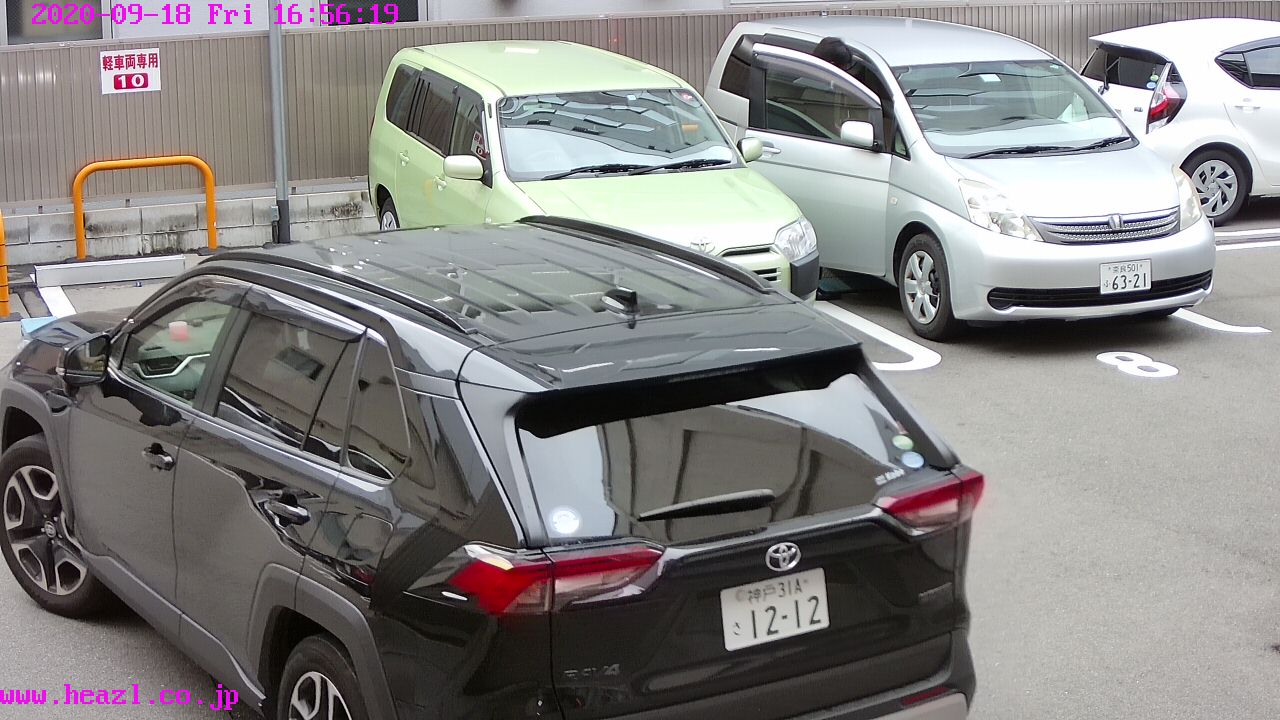number_plate: (729, 578, 838, 638), (1100, 263, 1156, 290)
